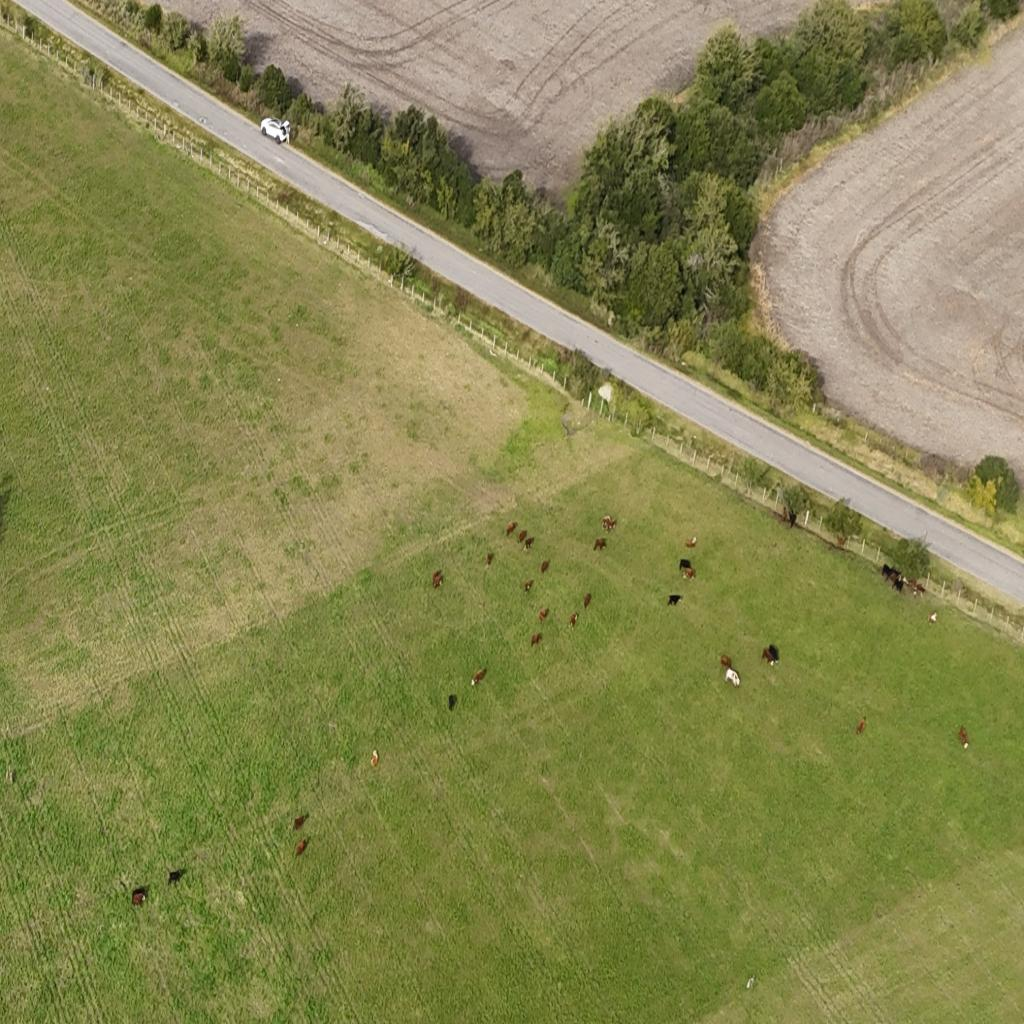cow: (724, 667, 741, 687), (166, 868, 184, 886), (132, 887, 148, 906), (770, 640, 782, 665), (294, 838, 308, 858), (471, 668, 485, 687), (958, 726, 969, 750), (293, 813, 307, 831), (893, 577, 906, 595), (882, 564, 894, 583), (432, 569, 444, 588), (911, 585, 927, 599), (761, 650, 774, 667), (788, 508, 798, 528), (678, 558, 692, 572), (667, 594, 682, 607), (720, 654, 732, 670), (836, 534, 848, 550), (593, 538, 606, 552), (505, 522, 517, 537), (518, 527, 528, 544), (531, 632, 542, 647), (370, 749, 379, 767), (680, 569, 694, 580), (856, 718, 865, 735), (448, 694, 457, 711), (685, 536, 697, 548), (569, 613, 578, 629), (906, 576, 917, 589), (538, 608, 548, 622), (607, 519, 617, 532), (583, 592, 591, 608), (927, 612, 937, 624), (524, 579, 533, 592), (602, 514, 610, 528), (485, 552, 493, 566), (541, 560, 549, 574), (470, 678, 476, 687)
